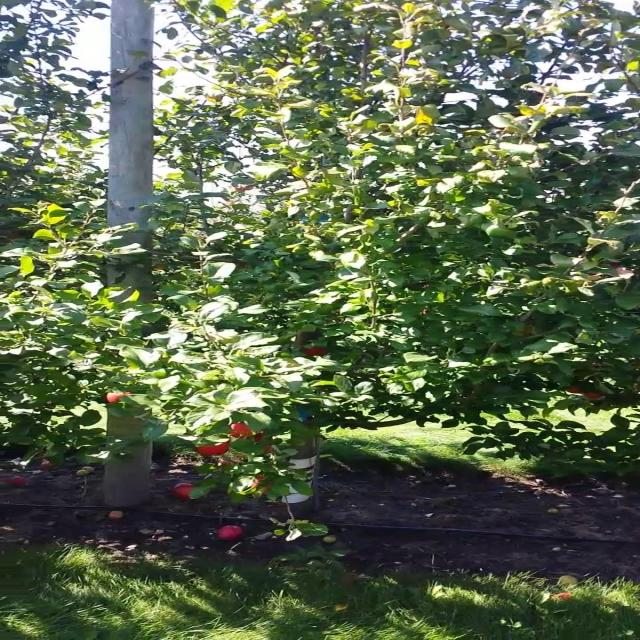apple: (196, 441, 230, 456), (251, 474, 273, 496), (229, 422, 253, 439), (609, 262, 633, 278), (104, 391, 131, 404), (302, 346, 327, 356), (582, 391, 604, 399), (253, 431, 264, 442), (567, 386, 582, 394), (264, 446, 271, 452)
